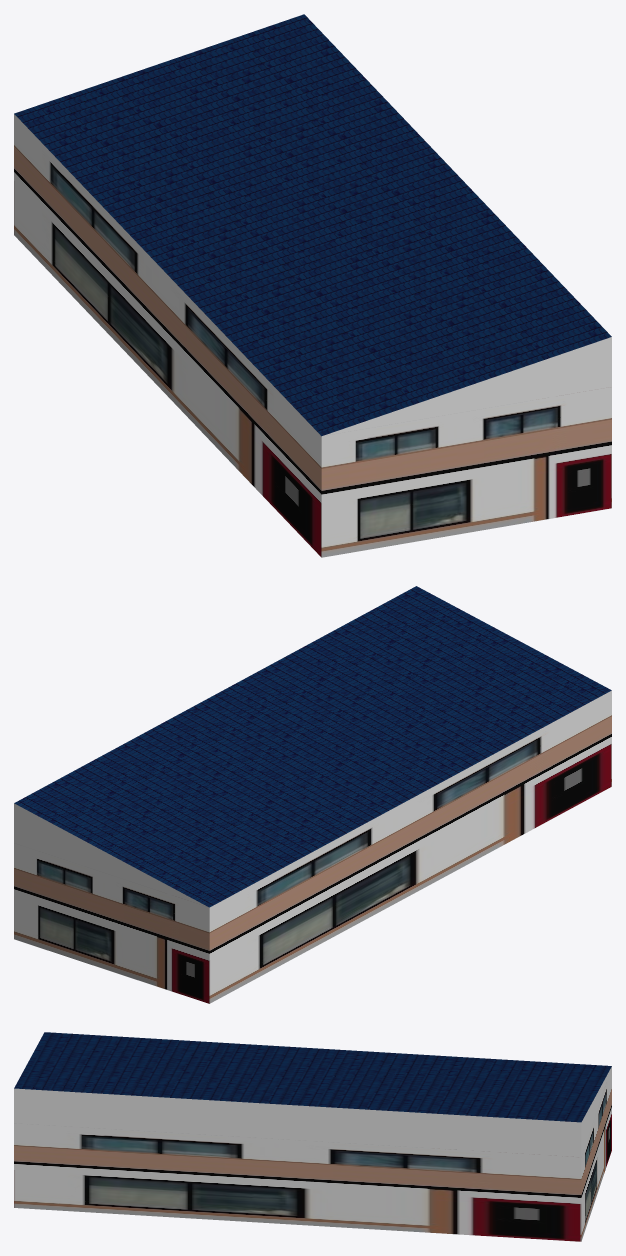
3 renders of one model, top to bottom at view 1: azimuth 30°, elevation 25°; view 2: azimuth 150°, elevation 25°; view 3: azimuth 270°, elevation 25°, orthographic. The views are drawn at different scales.
Parts seen in each view (by area): view 1: CityEngineMaterial_6_m, CityEngineMaterial_5_m, CityEngineMaterial_3_m; view 2: CityEngineMaterial_6_m, CityEngineMaterial_5_m, CityEngineMaterial_3_m; view 3: CityEngineMaterial_5_m, CityEngineMaterial_6_m, CityEngineMaterial_3_m.
Part boxes in pixels (bbox=[...]): CityEngineMaterial_6_m: bbox=[14, 14, 611, 436]; CityEngineMaterial_5_m: bbox=[14, 114, 611, 557]; CityEngineMaterial_3_m: bbox=[322, 337, 611, 436]; CityEngineMaterial_6_m: bbox=[14, 586, 611, 907]; CityEngineMaterial_5_m: bbox=[14, 690, 611, 1003]; CityEngineMaterial_3_m: bbox=[14, 803, 208, 907]; CityEngineMaterial_5_m: bbox=[14, 1067, 611, 1241]; CityEngineMaterial_6_m: bbox=[14, 1032, 611, 1122]; CityEngineMaterial_3_m: bbox=[14, 1067, 611, 1157].
Size of the model in its own units: 29.7 by 13.21 by 59.97.
